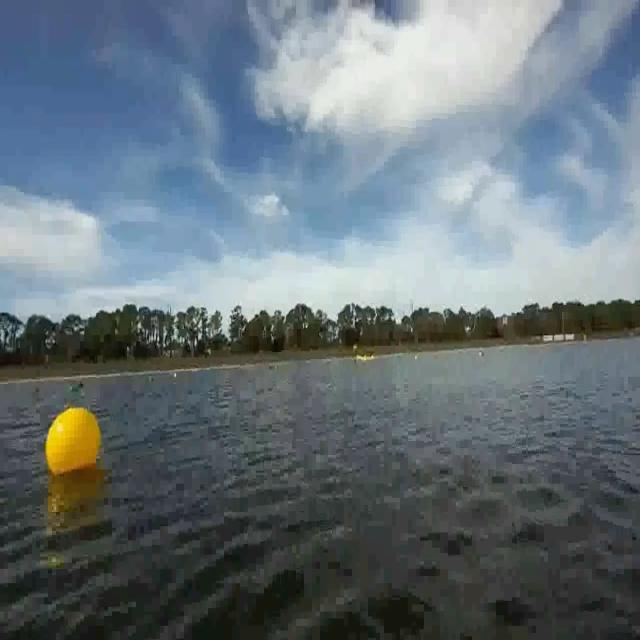yellow-buoy: (44, 404, 102, 476)
